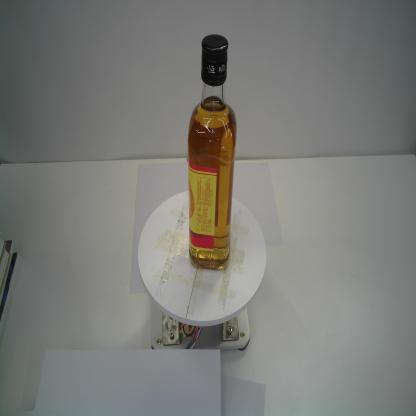Seasoner: (186, 31, 239, 273)
